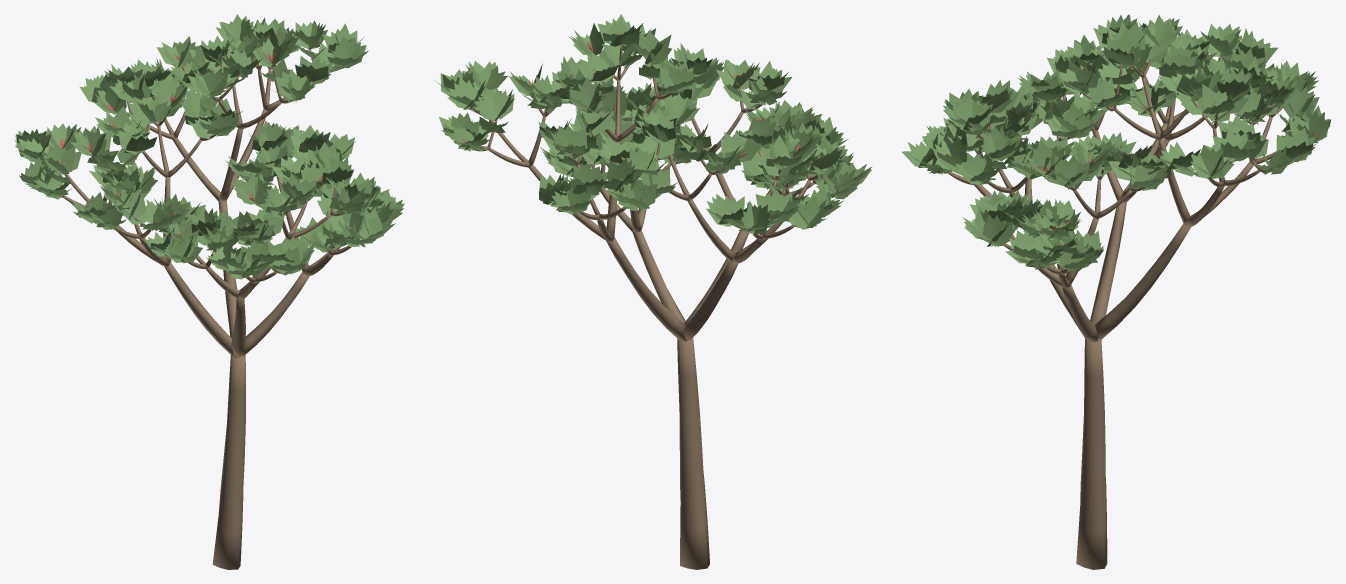
Rendered from tree-pseudobombax.glb.
The picture shows the model from 3 angles, left to right: view 1: azimuth 30°, elevation 25°; view 2: azimuth 150°, elevation 25°; view 3: azimuth 270°, elevation 25°; orthographic projection. The views are drawn at different scales.
Parts seen in each view (by area): view 1: Foliage, Wood; view 2: Foliage, Wood; view 3: Foliage, Wood.
Part boxes in pixels (x1,y1,x2,y2): Foliage: (14,14,404,279); Wood: (41,46,364,569); Foliage: (436,14,872,234); Wood: (471,44,834,569); Foliage: (901,14,1331,271); Wood: (941,44,1294,569).
Size of the model in its own units: 5.04 by 6.83 by 4.81.
